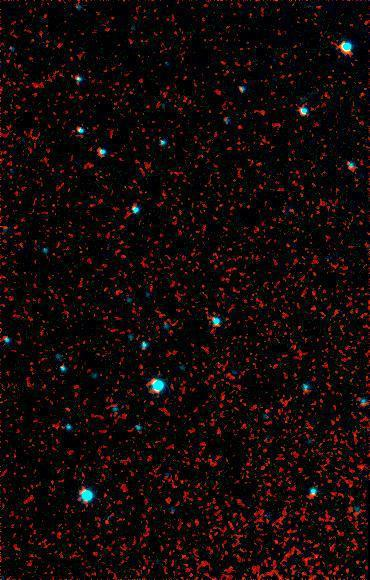star: (59, 393, 89, 423)
